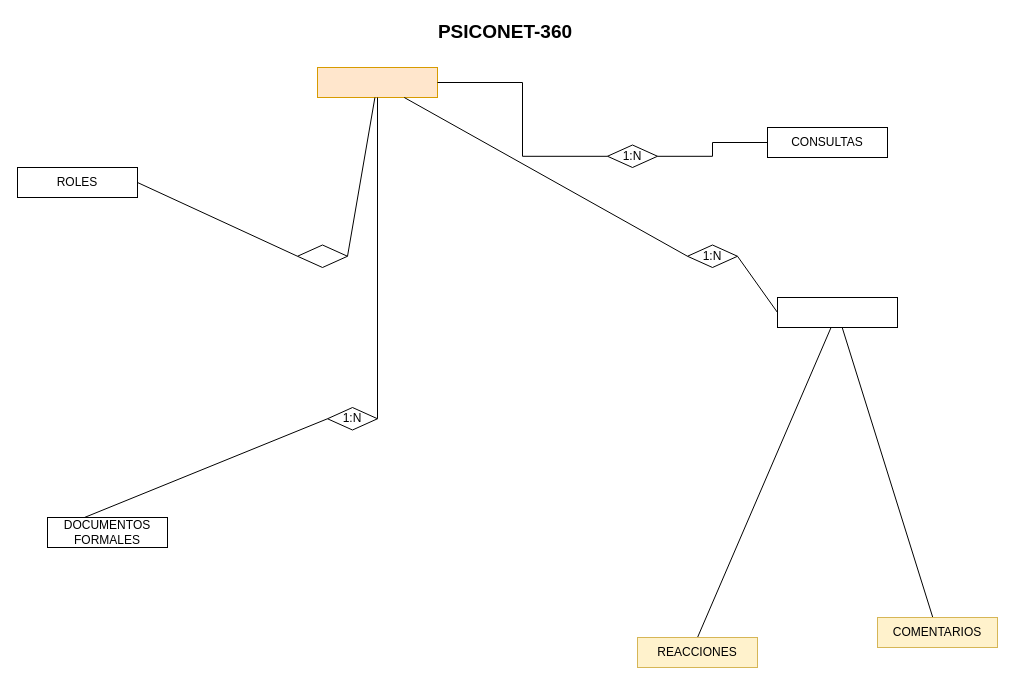
Image size: 1015x685. Some labels were removed from this diagram. Each missing label, with the centre of its shape:
N:N: point 322,256
PUBLICACION: point 837,312
USUARIO: point 377,82
